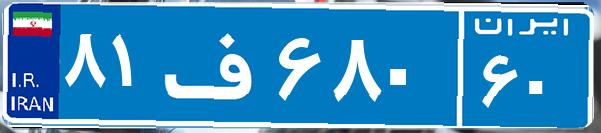0: (385, 28, 445, 110), (525, 38, 570, 115)
1: (110, 28, 158, 105)
6: (273, 28, 330, 110), (475, 38, 525, 113)
8: (330, 28, 385, 110), (57, 26, 110, 107)
ف: (158, 15, 273, 115)
